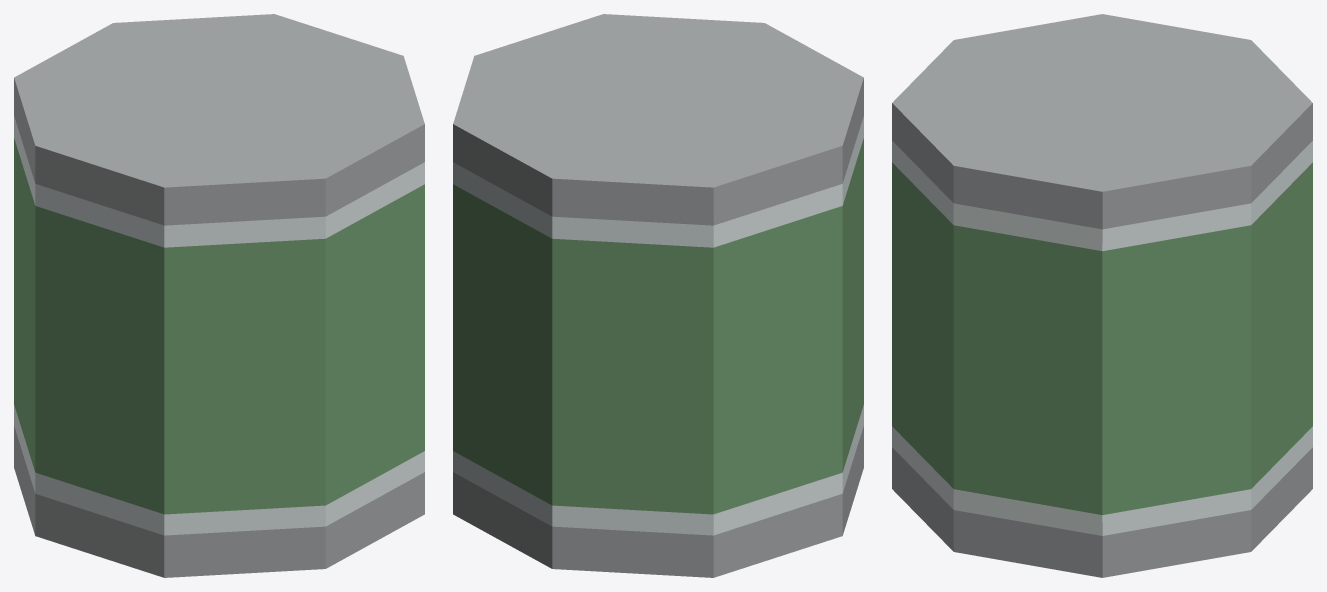
File: can3.fbx
The picture shows the model from 3 angles, left to right: view 1: azimuth 30°, elevation 25°; view 2: azimuth 150°, elevation 25°; view 3: azimuth 270°, elevation 25°; orthographic projection.
Parts seen in each view (by area): view 1: can2; view 2: can2; view 3: can2.
Boxes of the visible parts, box(x1,y1,x2,y2) form: can2: box(14, 14, 424, 577); can2: box(453, 14, 863, 577); can2: box(892, 14, 1312, 577).
Bounding box in the file's own units: 0.7012 × 0.7102 × 0.7012.
Materials: 1 (1 with a texture image).
